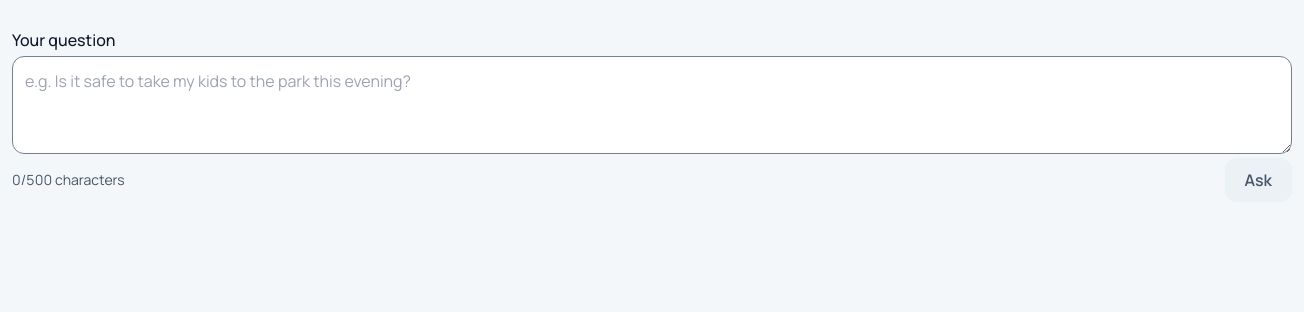
Test: ChatPanel › streams the answer into a polite log and has no axe violations
Step 1. Type "Can we go to the park?" into the text box labelled "Your question" → coordinates (652, 105), box [12,56,1292,154]
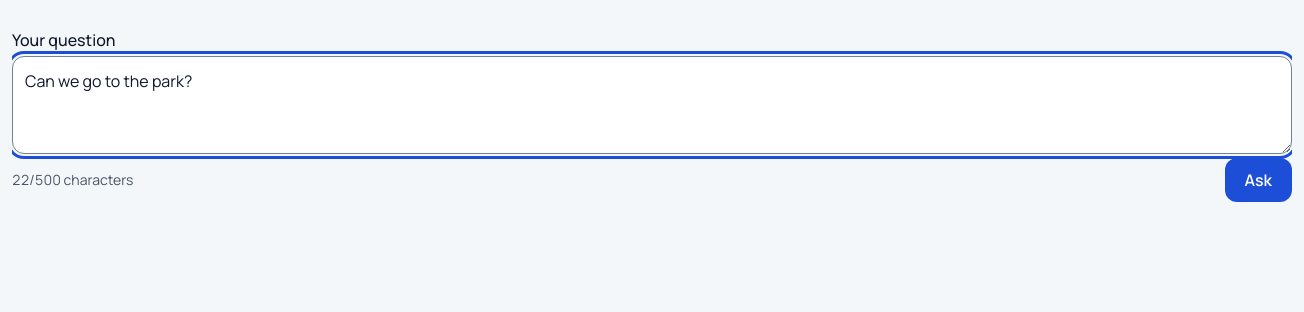
Now the text "22/500 characters" is shown, box [12,170,133,190]
Step 2. Click the button "Ask" → coordinates (1258, 180), box [1224,158,1292,202]
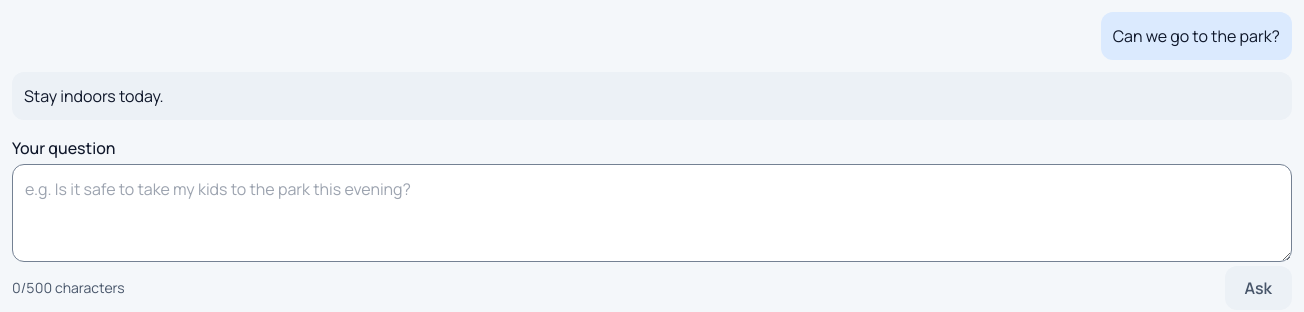
Now the element showing "Can we go to the park? Stay indoors today." is shown, box [12,12,1292,120]
